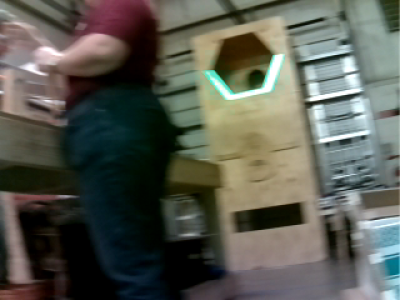target: (201, 54, 286, 99)
